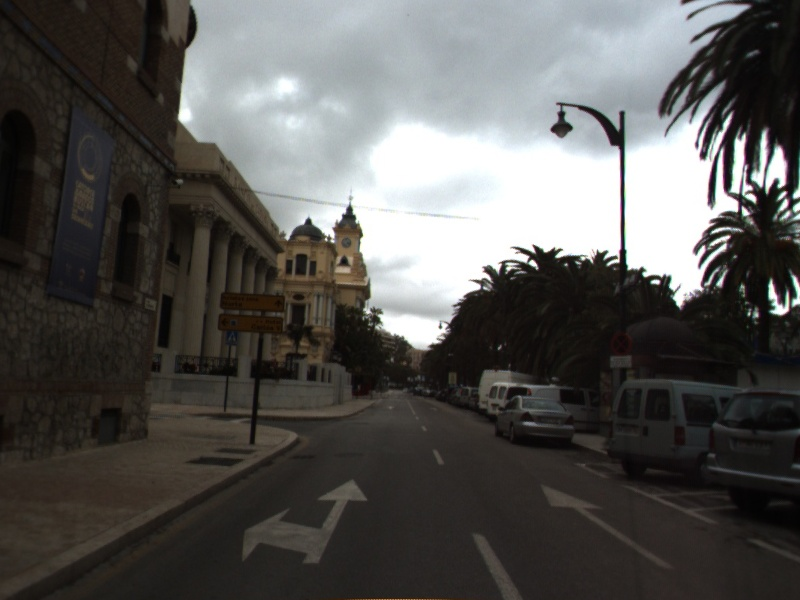STRAIGHT: (539, 482, 676, 570)
STRAIGHT_LEFT: (240, 477, 370, 565)
